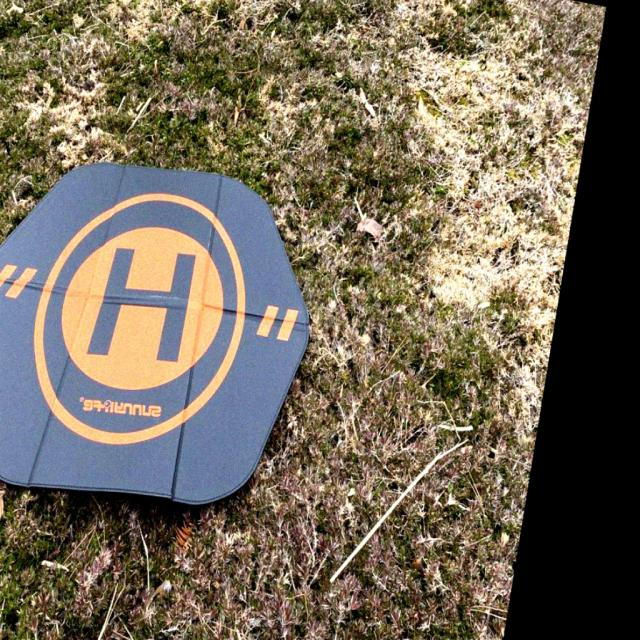helipad: (25, 186, 252, 448)
